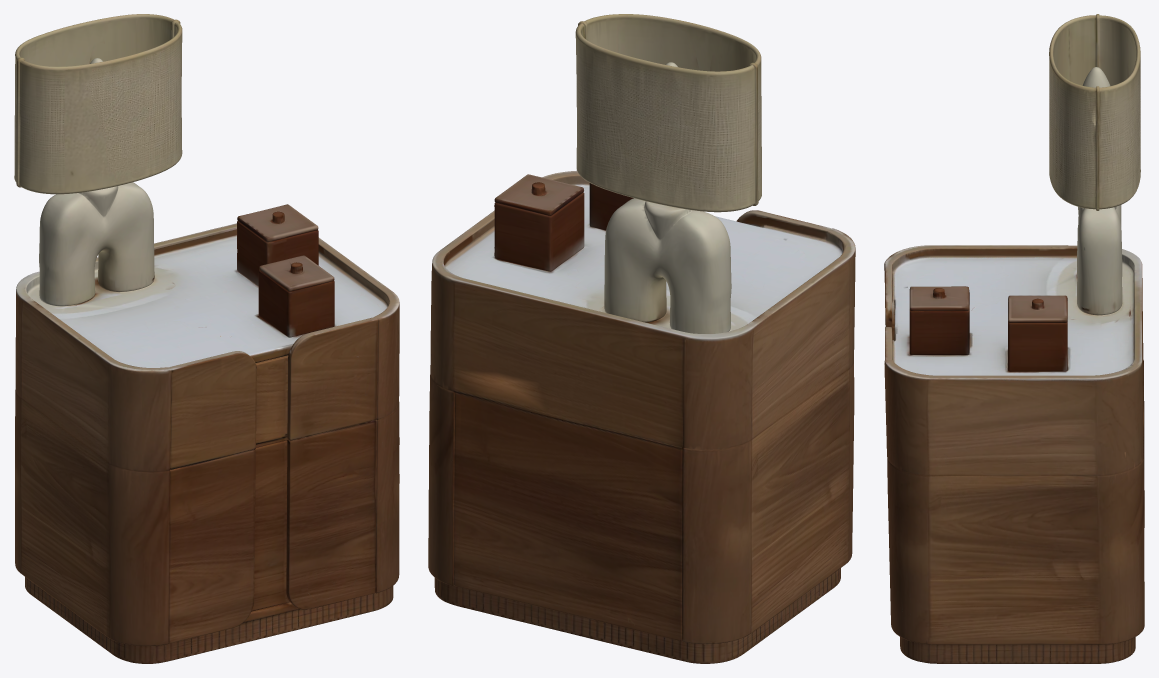
Rendered from c05-realistic.glb.
The picture shows the model from 3 angles, left to right: view 1: azimuth 30°, elevation 25°; view 2: azimuth 150°, elevation 25°; view 3: azimuth 270°, elevation 25°; orthographic projection. The views are drawn at different scales.
Visible parts, largest first — view 1: node_0; view 2: node_0; view 3: node_0.
Boxes of the visible parts, x1=… form: node_0: x1=14, y1=14, x2=399, y2=663; node_0: x1=428, y1=14, x2=855, y2=663; node_0: x1=884, y1=14, x2=1144, y2=663.
Size of the model in its own units: 0.5718 by 1.01 by 0.461.
1 material, 1 textured.
